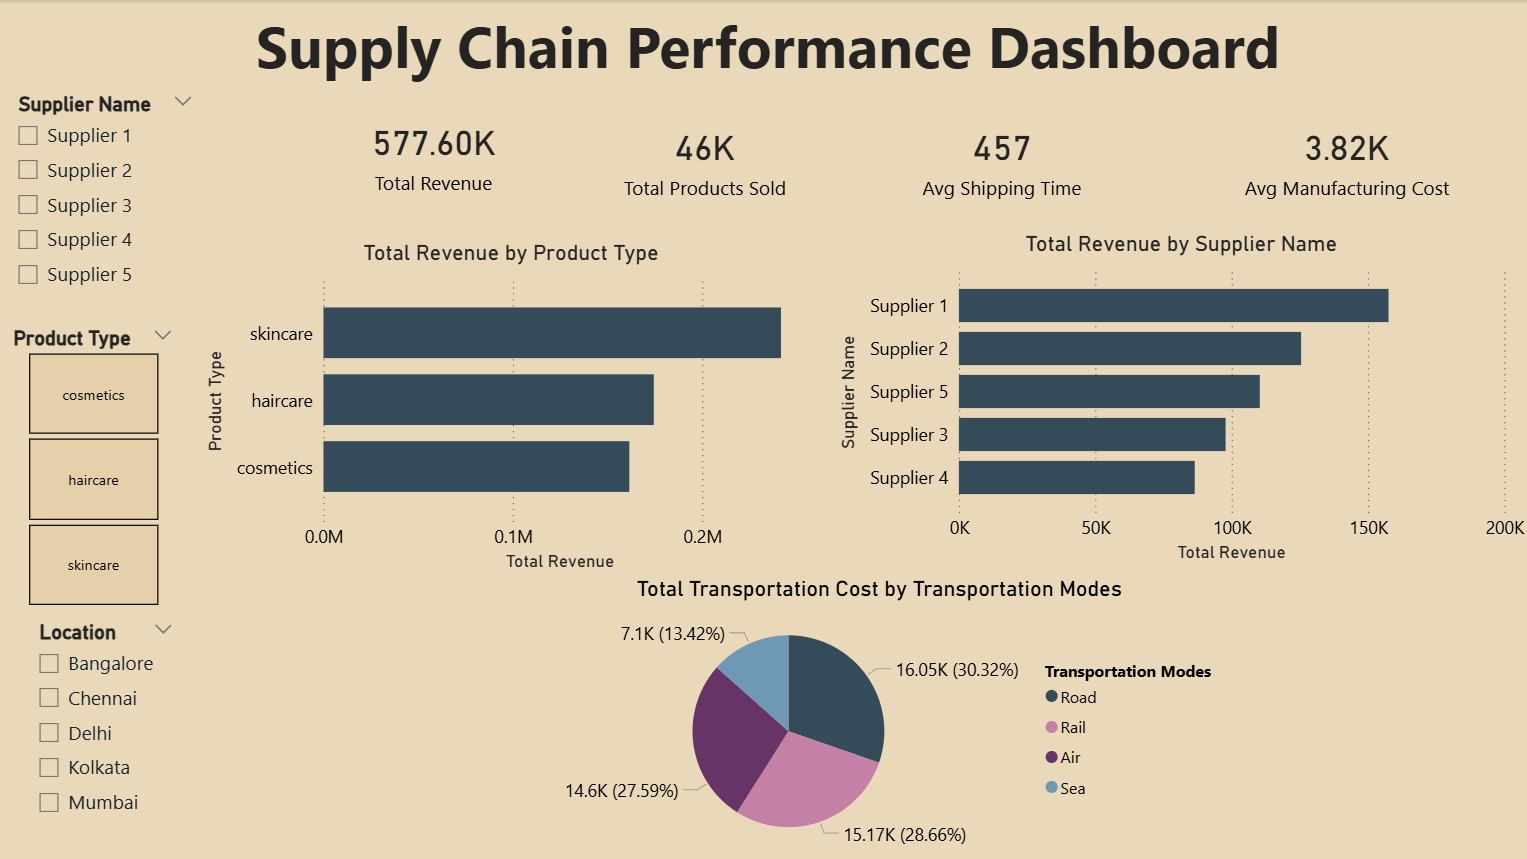

What the dashboard file says about the page in this screenshot:
{"tool":"powerbi","page":{"name":"Page 1","canvas":[1280,720],"ordinal":0},"visuals":[{"type":"card","fields":{"Values":["Sum(supply_chain_summary.Total_Revenue)"]},"box":[218.8,72,289.8,112.8],"z":0},{"type":"card","fields":{"Values":["Sum(supply_chain_summary.Total_Products_Sold)"]},"box":[445.5,72,290.8,120.6],"z":1},{"type":"card","fields":{"Values":["Sum(supply_chain_summary.Avg_Shipping_Time)"]},"box":[693.5,72,290.8,120.6],"z":2},{"type":"card","fields":{"Values":["Sum(supply_chain_summary.Avg_Manufacturing_Cost)"]},"box":[981.4,72,290.8,120.6],"z":3},{"type":"clusteredBarChart","fields":{"Category":["supply_chain_summary.Product_type"],"Y":["Sum(supply_chain_summary.Total_Revenue)"]},"box":[168.3,200.4,521.3,281.1],"z":4},{"type":"clusteredBarChart","fields":{"Category":["supply_chain_summary.Supplier_name"],"Y":["Sum(supply_chain_summary.Total_Revenue)"]},"box":[696.4,192.6,583.6,281.1],"z":5},{"type":"pieChart","fields":{"Y":["Sum(supply_chain_summary.Total_Transportation_Cost)"],"Category":["supply_chain_summary.Transportation_modes"]},"box":[440.6,481.5,590.4,238.3],"z":6},{"type":"slicer","fields":{"Values":["supply_chain_summary.Product_type"]},"box":[0,267.5,157.6,245.1],"z":7},{"type":"slicer","title":"Supplier Name","fields":{"Values":["supply_chain_summary.Supplier_name"]},"box":[3.9,72,170.2,195.5],"z":8},{"type":"slicer","fields":{"Values":["supply_chain_summary.Location"]},"box":[21.4,512.6,136.2,177],"z":9},{"type":"textbox","box":[210.1,0,870.5,77.8],"z":10}]}

Visuals, with their boxes in screenshot pixels (x1, y1, x2, y2), scaled from the page's 1280x720 canvas onto the 1527x859 screenshot:
card - Sum(supply_chain_summary.Total_Revenue): bbox=[261, 86, 607, 220]
card - Sum(supply_chain_summary.Total_Products_Sold): bbox=[531, 86, 878, 230]
card - Sum(supply_chain_summary.Avg_Shipping_Time): bbox=[827, 86, 1174, 230]
card - Sum(supply_chain_summary.Avg_Manufacturing_Cost): bbox=[1171, 86, 1518, 230]
clusteredBarChart - supply_chain_summary.Product_type x Sum(supply_chain_summary.Total_Revenue): bbox=[201, 239, 823, 574]
clusteredBarChart - supply_chain_summary.Supplier_name x Sum(supply_chain_summary.Total_Revenue): bbox=[831, 230, 1526, 565]
pieChart - Sum(supply_chain_summary.Total_Transportation_Cost) x supply_chain_summary.Transportation_modes: bbox=[526, 574, 1230, 858]
slicer - supply_chain_summary.Product_type: bbox=[0, 319, 188, 612]
"Supplier Name" slicer: bbox=[5, 86, 208, 319]
slicer - supply_chain_summary.Location: bbox=[26, 612, 188, 823]
textbox: bbox=[251, 0, 1289, 93]
